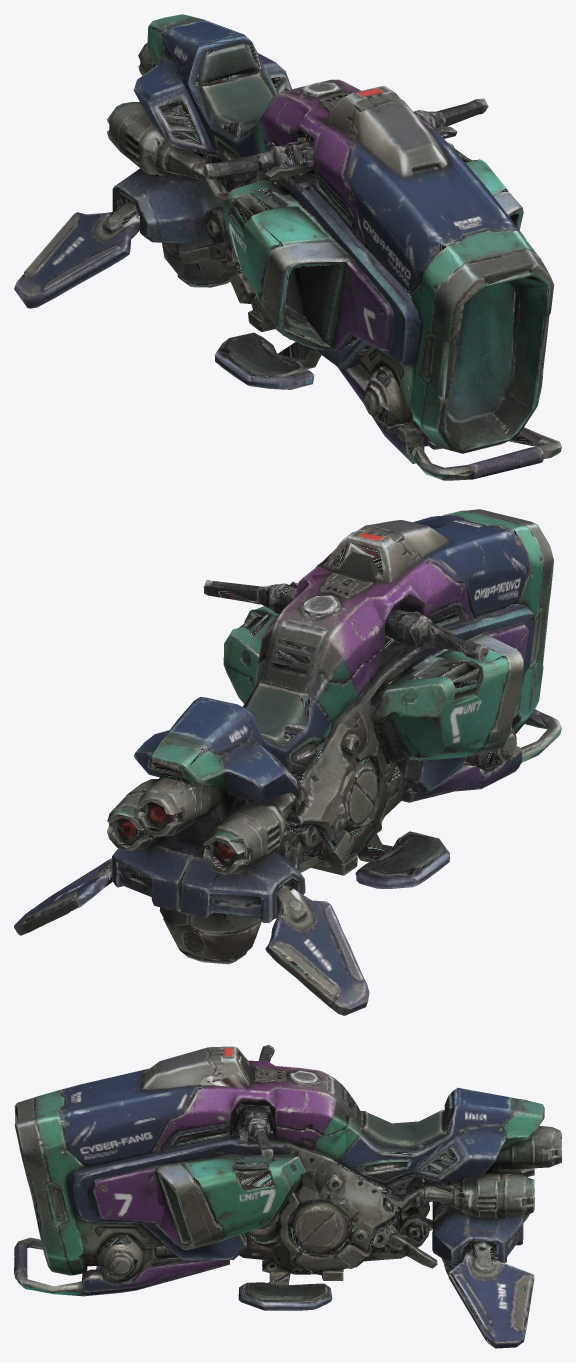
The model's file is cyber_fang.glb.
3 views of the same model, one above another, from view 1: azimuth 30°, elevation 25°; view 2: azimuth 150°, elevation 25°; view 3: azimuth 270°, elevation 25° (orthographic). The views are drawn at different scales.
Parts seen in each view (by area): view 1: model, mesh_lod; view 2: model, mesh_lod; view 3: model, mesh_lod.
Part boxes in pixels (x1,y1,x2,y2): model: (14,14,561,480); mesh_lod: (25,14,561,475); model: (14,509,561,1015); mesh_lod: (14,509,557,1014); model: (14,1044,561,1348); mesh_lod: (14,1046,561,1348).
Bounding box in the file's own units: 2.24 × 1.88 × 4.
Materials: 1 (1 with a texture image).
